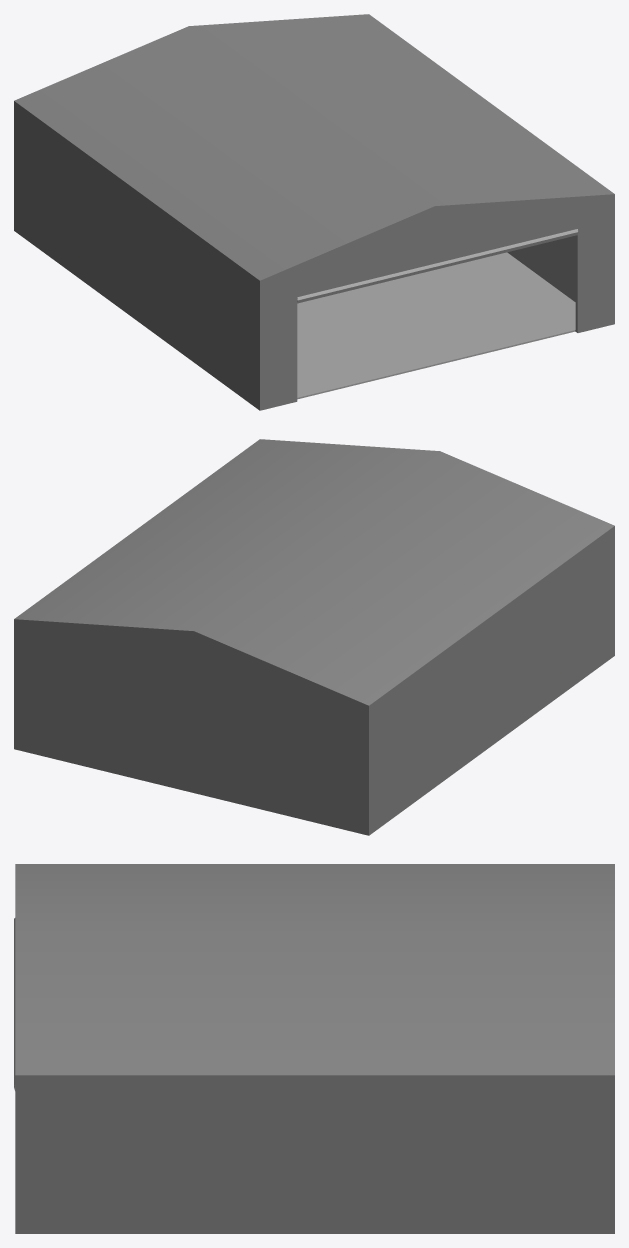
Rendered from VehicleHangar_02.fbx.
3 renders of one model, top to bottom at view 1: azimuth 30°, elevation 25°; view 2: azimuth 150°, elevation 25°; view 3: azimuth 270°, elevation 25°, orthographic. The views are drawn at different scales.
Visible parts, largest first — view 1: VehicleHangar_02_Body; view 2: VehicleHangar_02_Body; view 3: VehicleHangar_02_Body.
Part boxes in pixels (x1,y1,x2,y2): VehicleHangar_02_Body: (14,14,614,410); VehicleHangar_02_Body: (14,439,614,835); VehicleHangar_02_Body: (14,864,614,1233).
Size of the model in its own units: 50 by 21.8 by 60.13.
